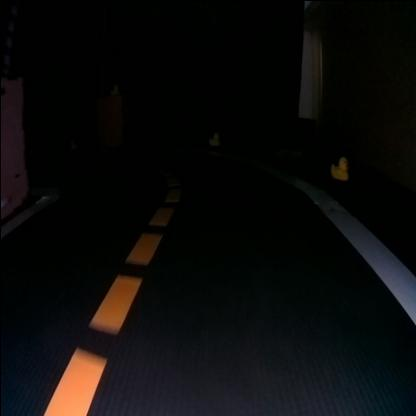Duckie: (329, 156, 347, 178), (208, 132, 218, 144)
